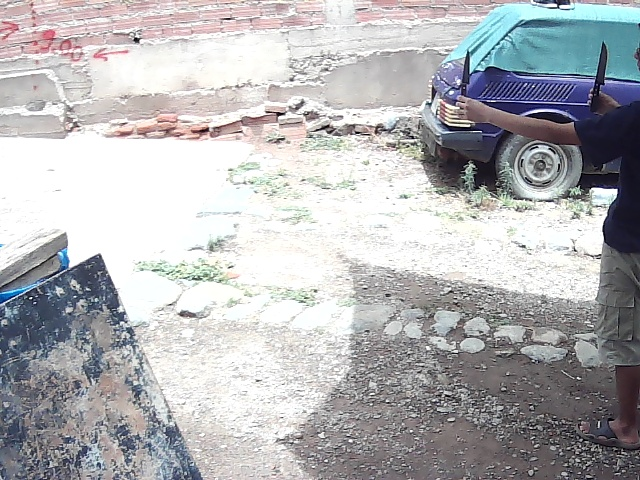cuchillo: (588, 35, 612, 110), (460, 43, 476, 98)
